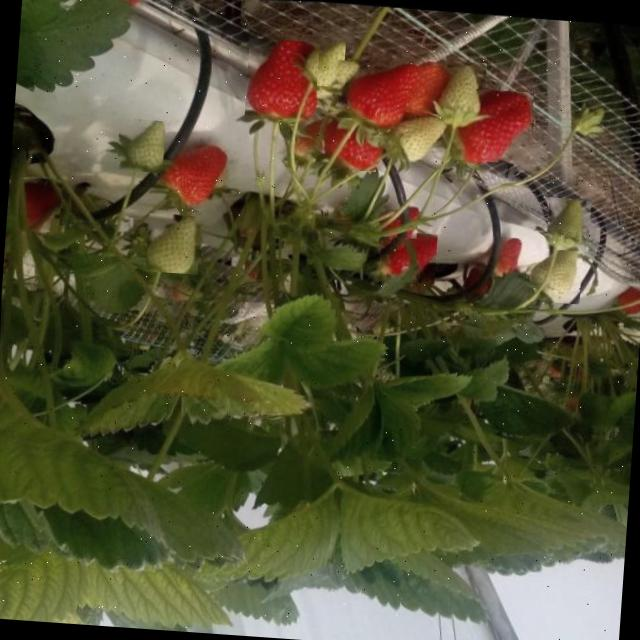ripe: (451, 87, 534, 164), (244, 37, 319, 121), (342, 57, 416, 132), (318, 115, 379, 171), (378, 230, 437, 284), (396, 57, 444, 114), (17, 176, 63, 232), (486, 236, 528, 278), (372, 201, 418, 238), (610, 283, 640, 314)
unripe: (426, 59, 486, 132), (387, 110, 452, 172), (528, 242, 583, 304), (146, 212, 200, 274), (116, 117, 166, 173), (546, 196, 592, 251), (301, 35, 346, 87), (327, 58, 368, 94)
